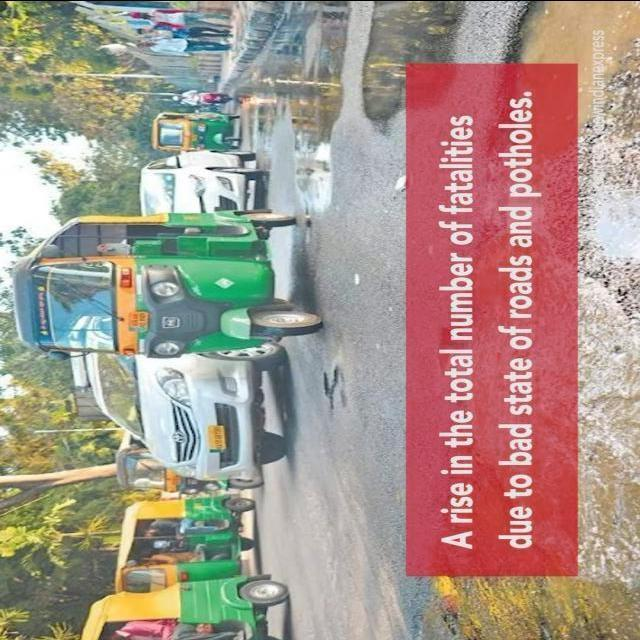pothole: (522, 2, 640, 302)
